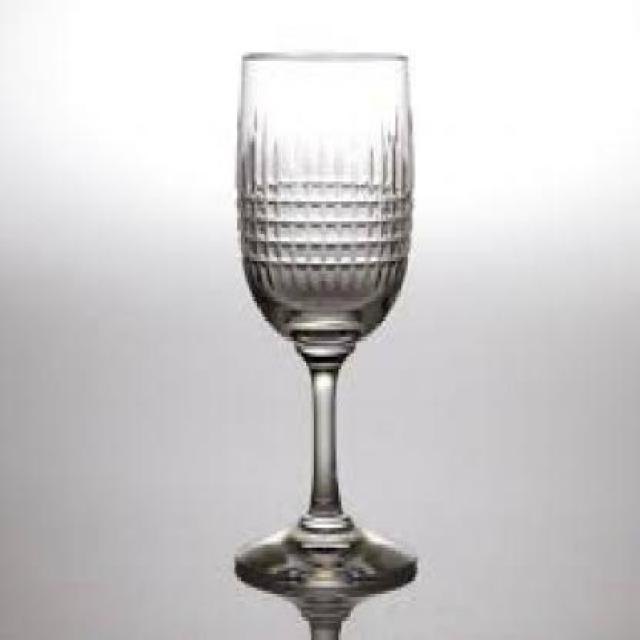kaca: (231, 49, 414, 597)
